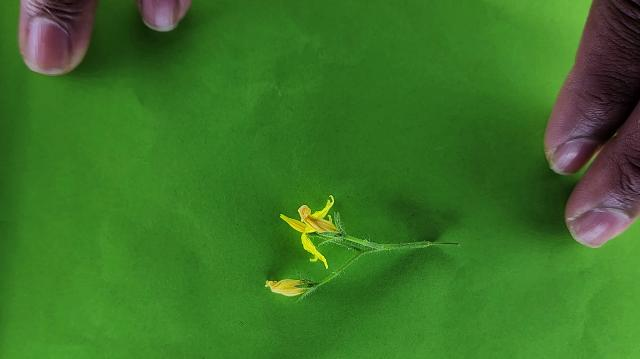Anthesis: (278, 197, 338, 270), (265, 274, 319, 297)
